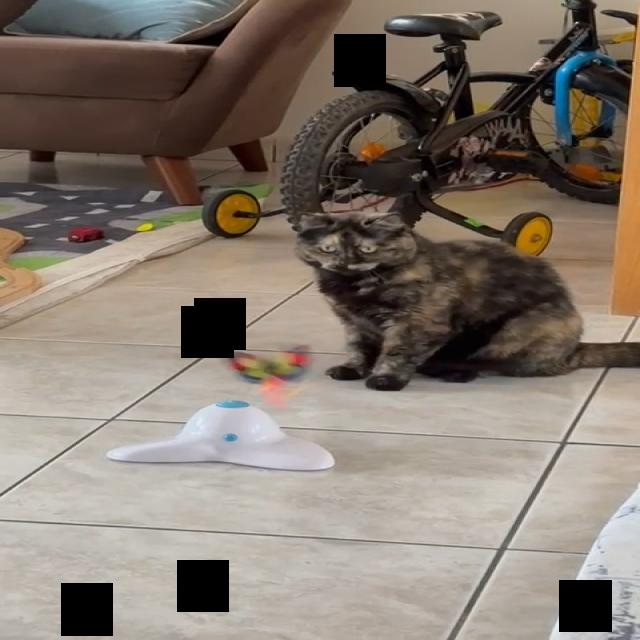authorized: (288, 209, 639, 391)
